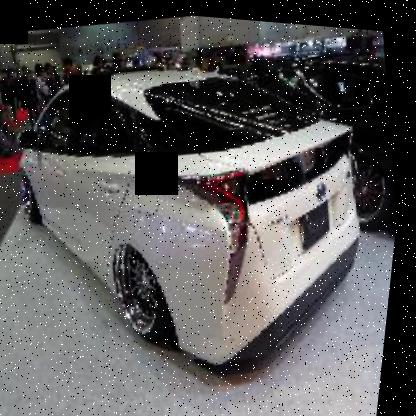not_emergency: (0, 16, 409, 410)
